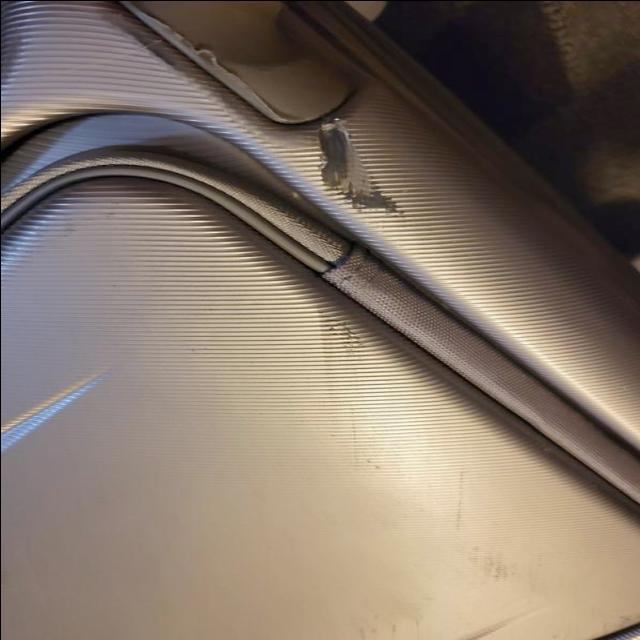Damage-bag: (120, 0, 292, 121), (317, 119, 396, 211)
